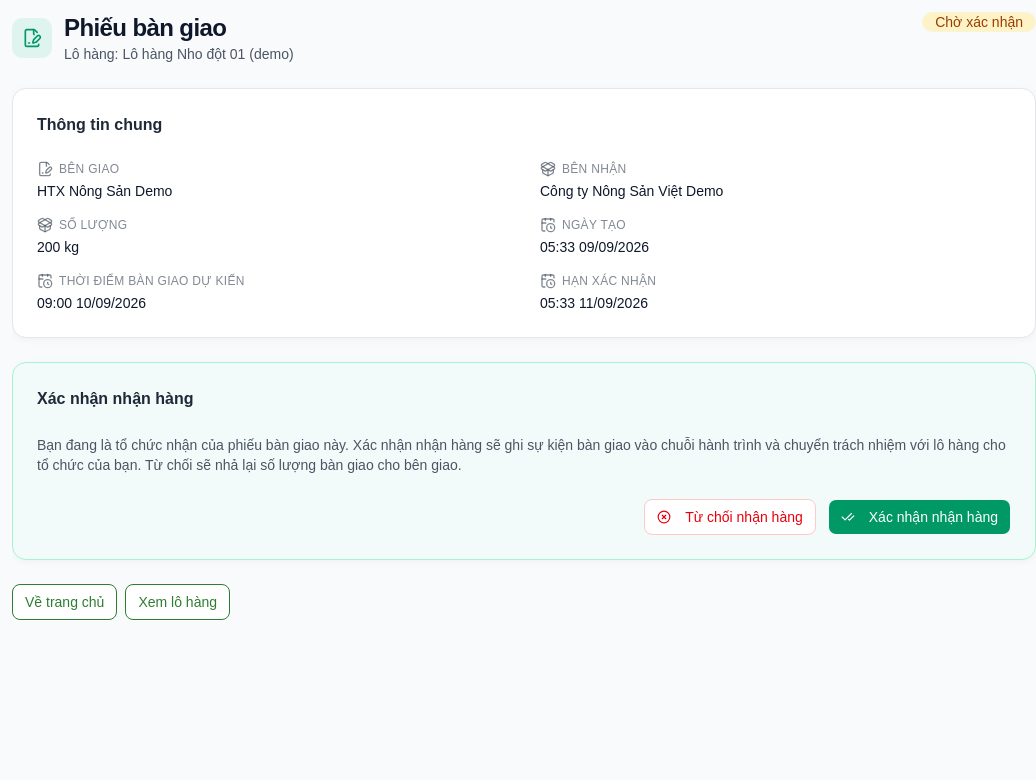
Scenario: NCL-05-CN-009 - HandoverDetailPage Xác nhận/Từ chối › click Xác nhận nhận hàng gọi acceptHandover và reload
Click the button "Xác nhận nhận hàng" at coordinates (919, 517), box x1=828 y1=499 x2=1011 y2=535
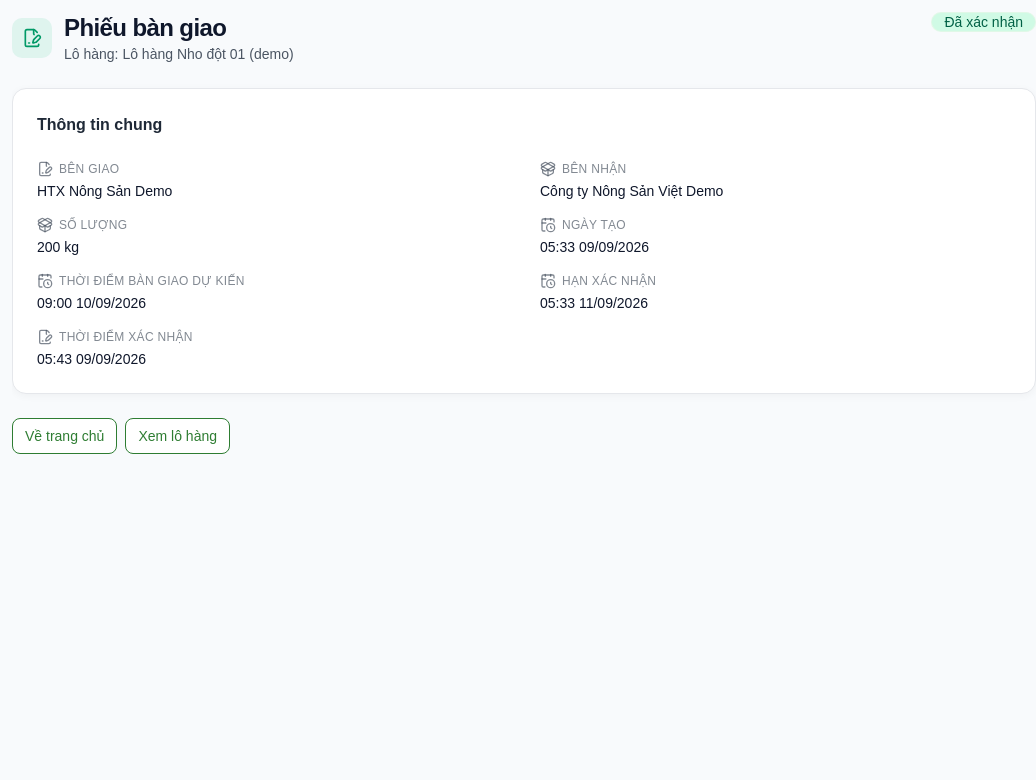
Expected: the text "Đã xác nhận" is shown, x1=931 y1=12 x2=1035 y2=32
